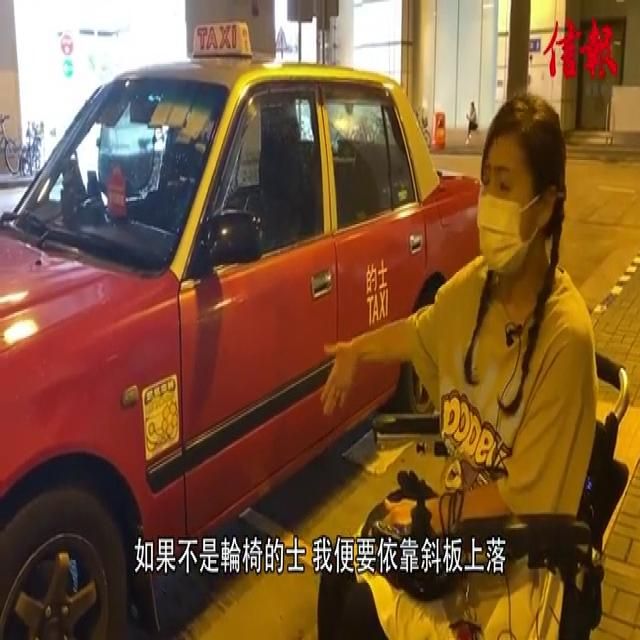wheelchairs: (370, 333, 635, 640)
